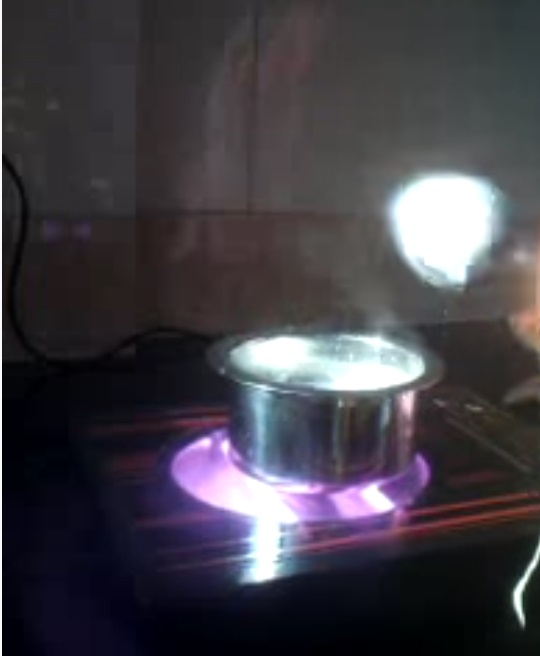Steaming: (206, 306, 443, 486)
